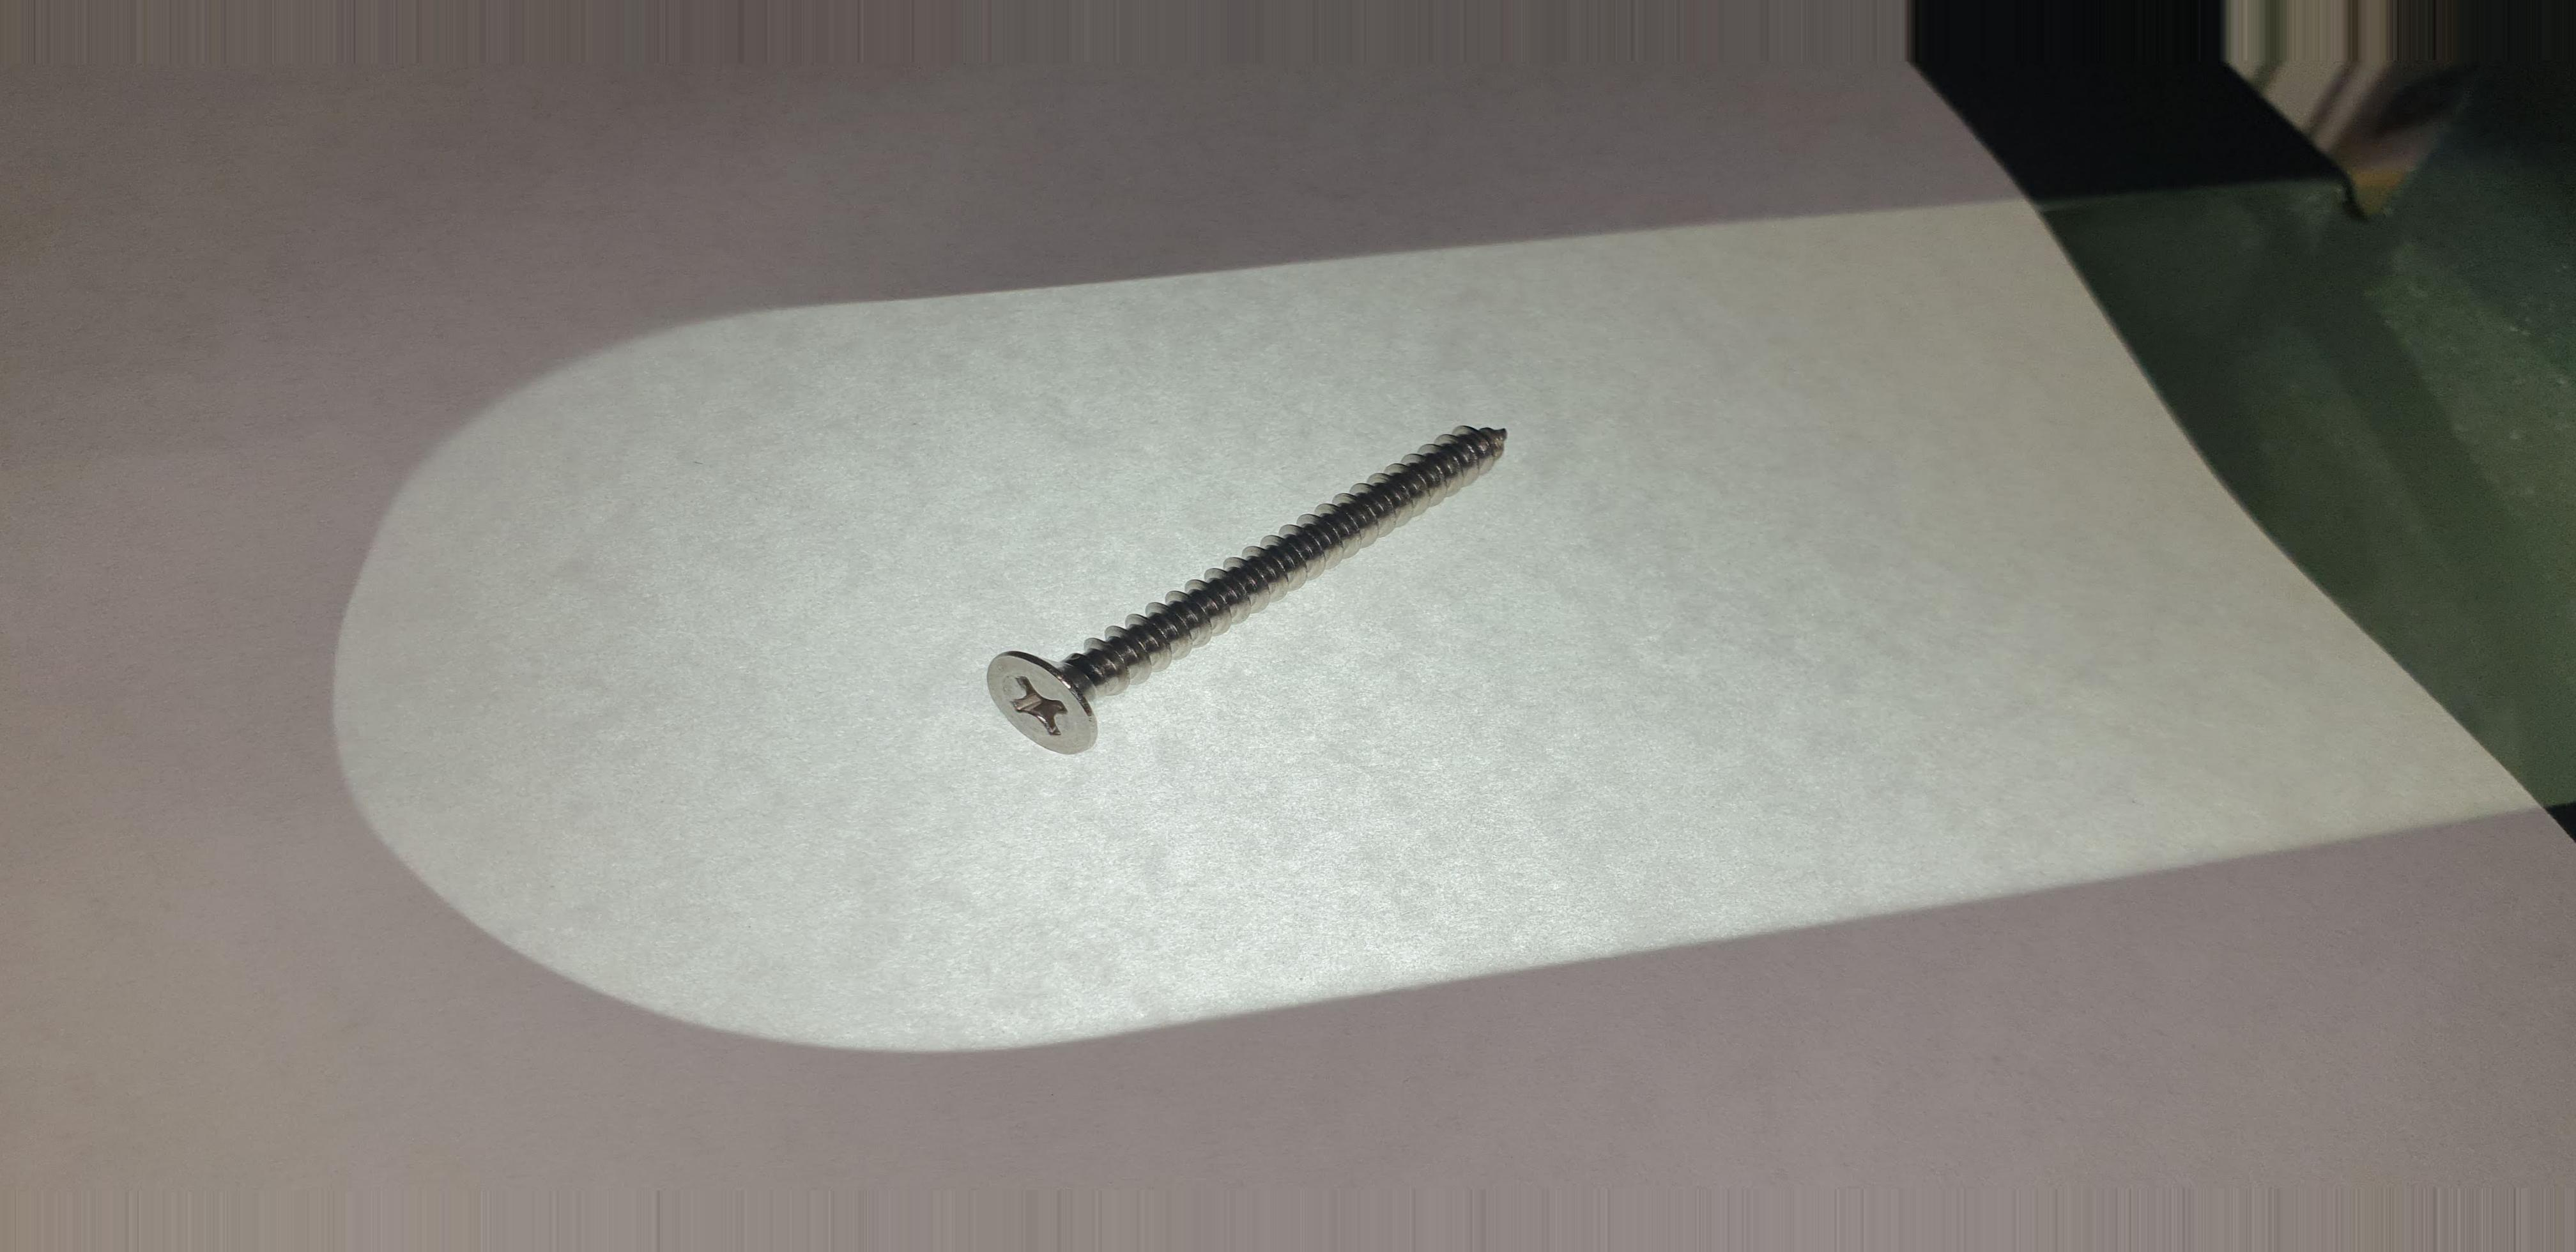fastener: (930, 388, 1590, 780)
